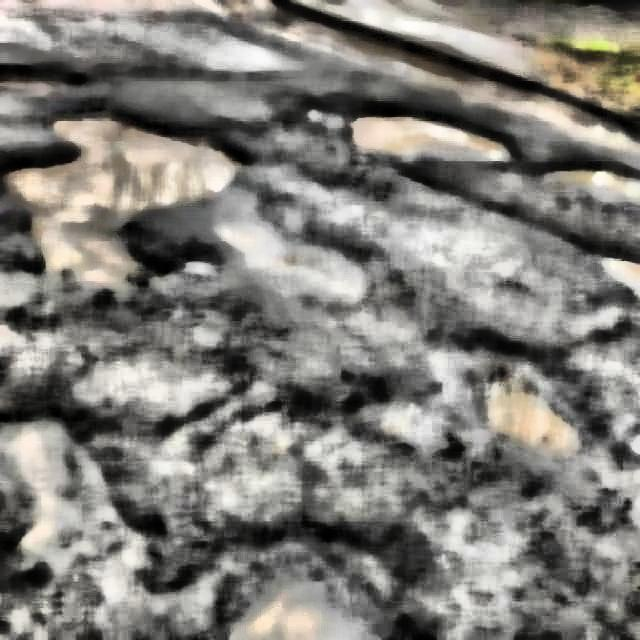buraco: (22, 83, 255, 291), (224, 514, 398, 640), (0, 400, 106, 598), (348, 92, 522, 190), (480, 338, 594, 473), (548, 152, 638, 238)
